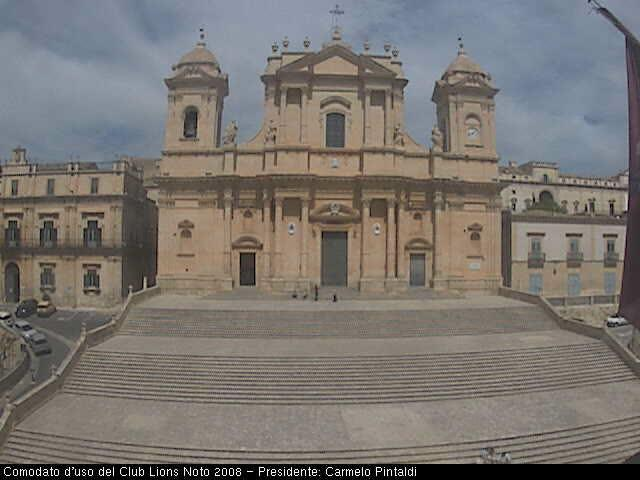person: (482, 446, 495, 464), (496, 450, 512, 464), (313, 281, 320, 304), (328, 290, 338, 306), (302, 285, 308, 302), (291, 288, 298, 302)
